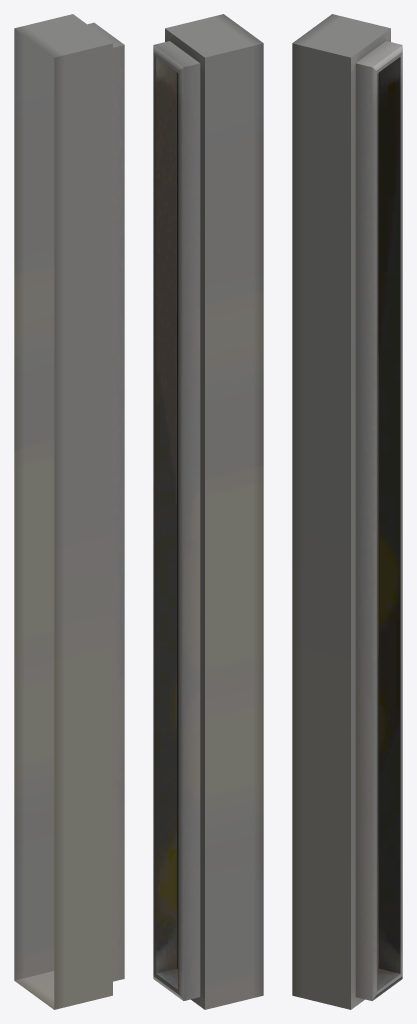
File: props_gameplay_door_grate002_floorplate.glb
The picture shows the model from 3 angles, left to right: view 1: azimuth 30°, elevation 25°; view 2: azimuth 210°, elevation 25°; view 3: azimuth 330°, elevation 25°; orthographic projection.
Parts seen in each view (by area): view 1: models/props_gameplay/door_grate002_floorplate; view 2: models/props_gameplay/door_grate002_floorplate; view 3: models/props_gameplay/door_grate002_floorplate.
Boxes of the visible parts, <box> form: models/props_gameplay/door_grate002_floorplate: <box>14,14,124,1009</box>; models/props_gameplay/door_grate002_floorplate: <box>153,14,263,1009</box>; models/props_gameplay/door_grate002_floorplate: <box>292,14,402,1009</box>.
Size of the model in its own units: 10.78 by 127 by 9.71.
Materials: 1 (1 with a texture image).
